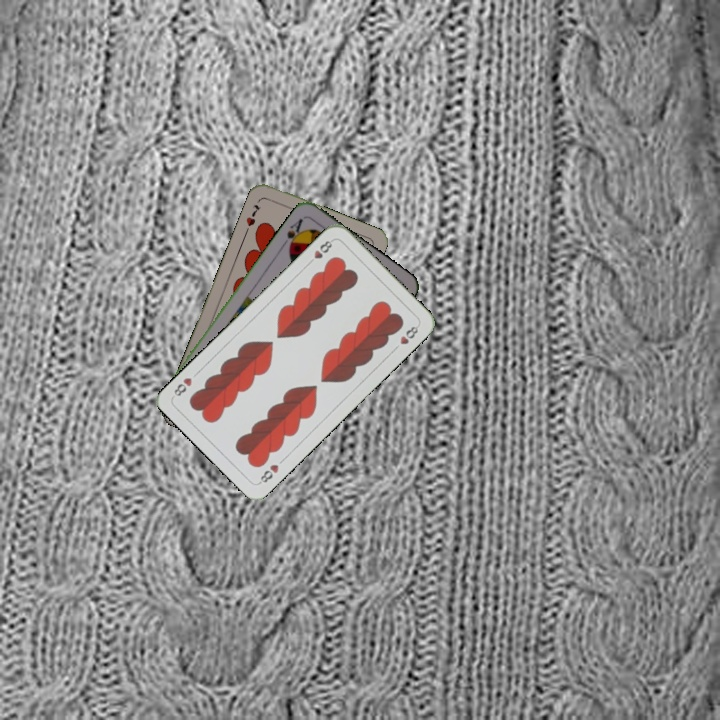H7: (242, 200, 263, 229)
H8: (304, 236, 336, 268), (255, 460, 281, 487)
SA: (278, 214, 307, 253)
